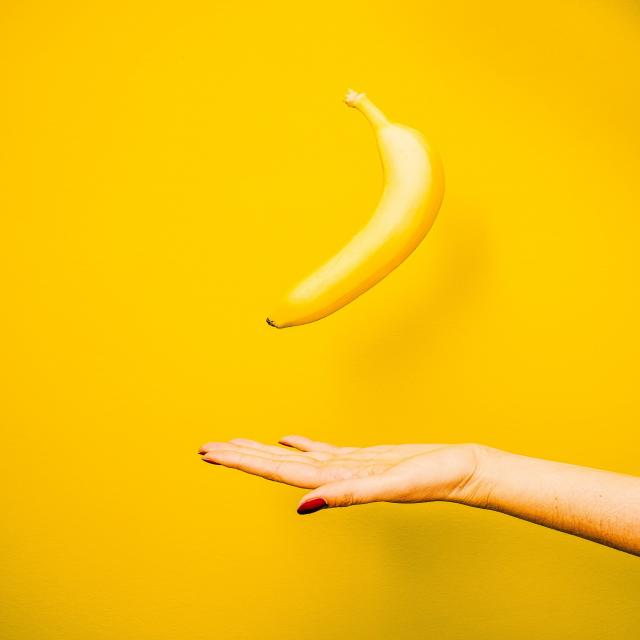banana: (257, 82, 455, 334)
hand: (185, 425, 640, 569)
